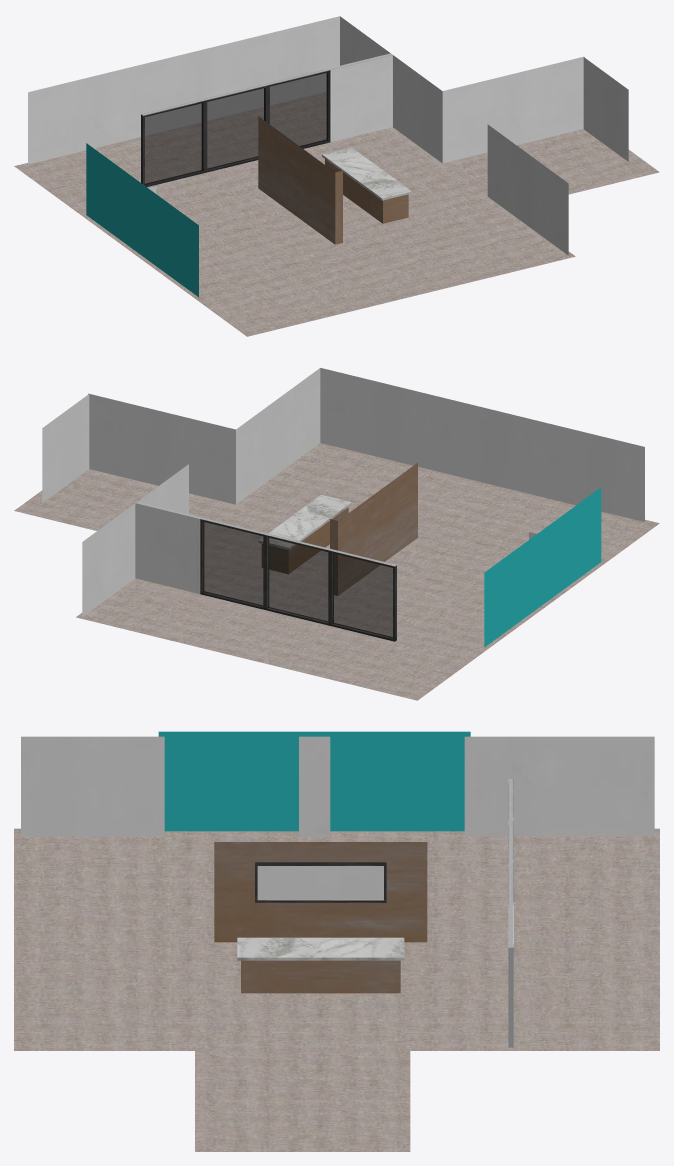
Rendered from office_interior-opt.glb.
3 renders of one model, top to bottom at view 1: azimuth 30°, elevation 25°; view 2: azimuth 150°, elevation 25°; view 3: azimuth 270°, elevation 25°, orthographic. The views are drawn at different scales.
Parts seen in each view (by area): view 1: Office_Material_0, Glass_Glass_0, Fake_Exterior_Fake_Exterior_0; view 2: Office_Material_0, Glass_Glass_0, Fake_Exterior_Fake_Exterior_0; view 3: Office_Material_0, Fake_Exterior_Fake_Exterior_0.
Boxes of the visible parts, x1,y1,x2,y2 form: Office_Material_0: [14, 16, 659, 336]; Glass_Glass_0: [145, 73, 327, 184]; Fake_Exterior_Fake_Exterior_0: [86, 143, 198, 297]; Office_Material_0: [14, 368, 659, 700]; Glass_Glass_0: [203, 522, 392, 637]; Fake_Exterior_Fake_Exterior_0: [484, 487, 601, 647]; Office_Material_0: [14, 736, 659, 1151]; Fake_Exterior_Fake_Exterior_0: [158, 731, 470, 831].
Bounding box in the file's own units: 30.6 × 4.46 × 25.85.
3 materials, 1 textured.
